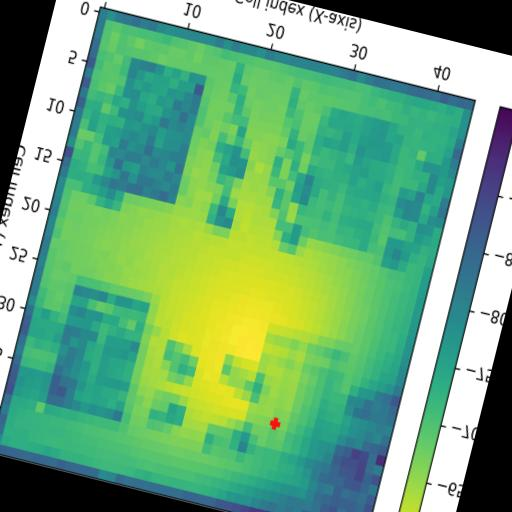Concrete: (238, 334, 350, 472)
Glass: (44, 284, 150, 422)
Metal: (292, 108, 408, 254)
Wood: (100, 56, 208, 204)
